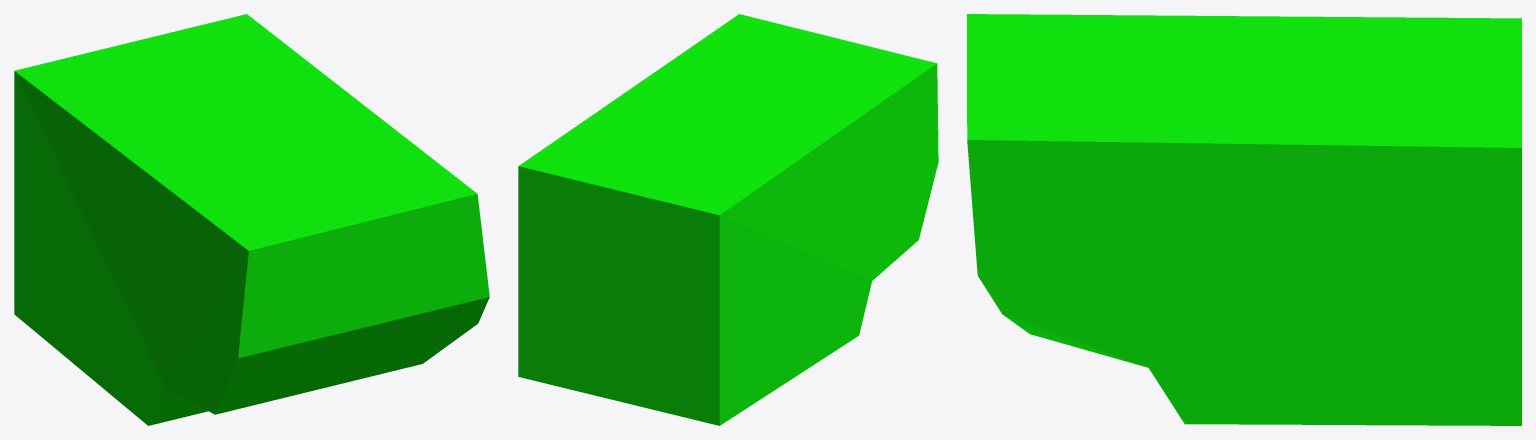
File: SM_Beam_Horizontal_A_End_B.fbx
3 renders of one model, left to right at view 1: azimuth 30°, elevation 25°; view 2: azimuth 150°, elevation 25°; view 3: azimuth 270°, elevation 25°, orthographic. The views are drawn at different scales.
Visible parts, largest first — view 1: beam-horizontal-a-end-b; view 2: beam-horizontal-a-end-b; view 3: beam-horizontal-a-end-b.
Boxes of the visible parts, box(x1,y1,x2,y2) form: beam-horizontal-a-end-b: box(14, 14, 489, 425); beam-horizontal-a-end-b: box(518, 14, 938, 425); beam-horizontal-a-end-b: box(967, 14, 1521, 425).
Size of the model in its own units: 0.2706 by 0.2514 by 0.4524.
